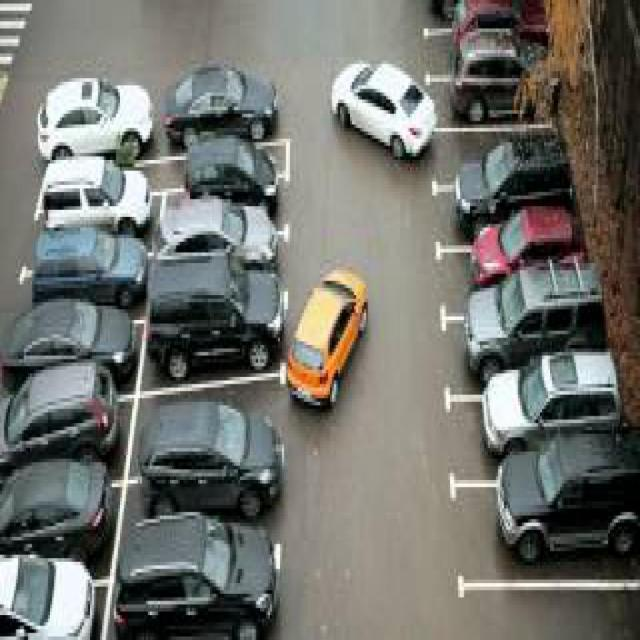space-empty: (136, 370, 285, 449), (458, 579, 640, 635), (428, 124, 562, 174)
space-occupied: (461, 475, 640, 589), (119, 531, 281, 638), (444, 382, 616, 472), (130, 448, 282, 530), (0, 469, 116, 575), (439, 306, 600, 382), (153, 284, 286, 374), (0, 386, 128, 475), (4, 313, 140, 396), (15, 246, 145, 321), (436, 242, 584, 304), (432, 177, 572, 242), (37, 86, 146, 162), (0, 559, 102, 638), (36, 181, 156, 248), (167, 169, 290, 230), (163, 85, 288, 144), (156, 226, 287, 282), (430, 73, 557, 124), (425, 19, 545, 72), (423, 0, 542, 26)
